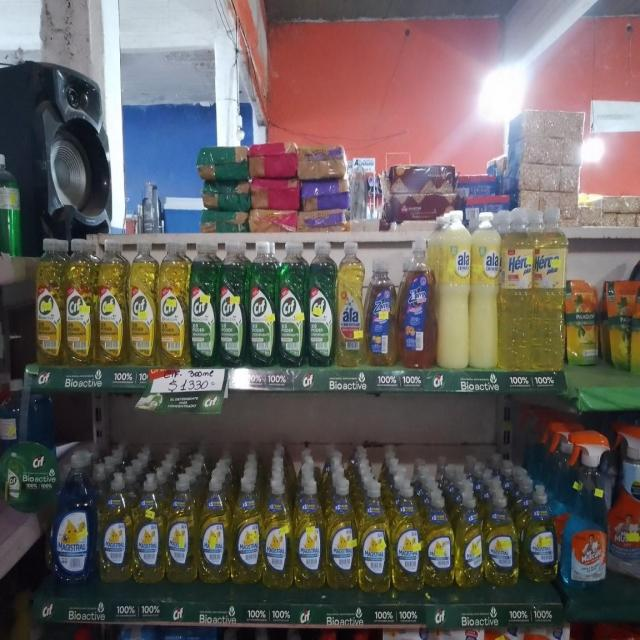ala_conc_amarillo: (337, 241, 365, 368)
ala_crem_amarillo: (436, 210, 469, 370), (470, 210, 499, 370)
ala_crem_rosado: (344, 629, 378, 640), (311, 629, 341, 640)
cif_conc_bot_amarilla: (97, 239, 127, 366), (158, 242, 188, 368), (66, 237, 95, 367), (35, 237, 64, 367), (129, 240, 157, 366)
cif_conc_botella_verde: (190, 241, 218, 368), (307, 240, 335, 367), (248, 241, 276, 368), (278, 241, 306, 367), (219, 242, 247, 368)
heroe: (531, 208, 566, 371), (500, 208, 531, 370), (630, 285, 640, 375)
magistral_con_amarillo: (98, 470, 132, 584), (522, 483, 558, 585), (326, 475, 357, 592), (358, 479, 389, 594), (294, 472, 324, 590), (263, 468, 292, 590), (199, 472, 230, 586), (166, 472, 197, 585), (134, 472, 164, 586), (392, 480, 422, 593), (484, 490, 518, 588), (232, 474, 261, 586), (424, 491, 454, 590), (456, 492, 483, 590)
magistral_con_azul: (52, 451, 95, 588)
zorro: (399, 236, 434, 368), (366, 255, 396, 367)
